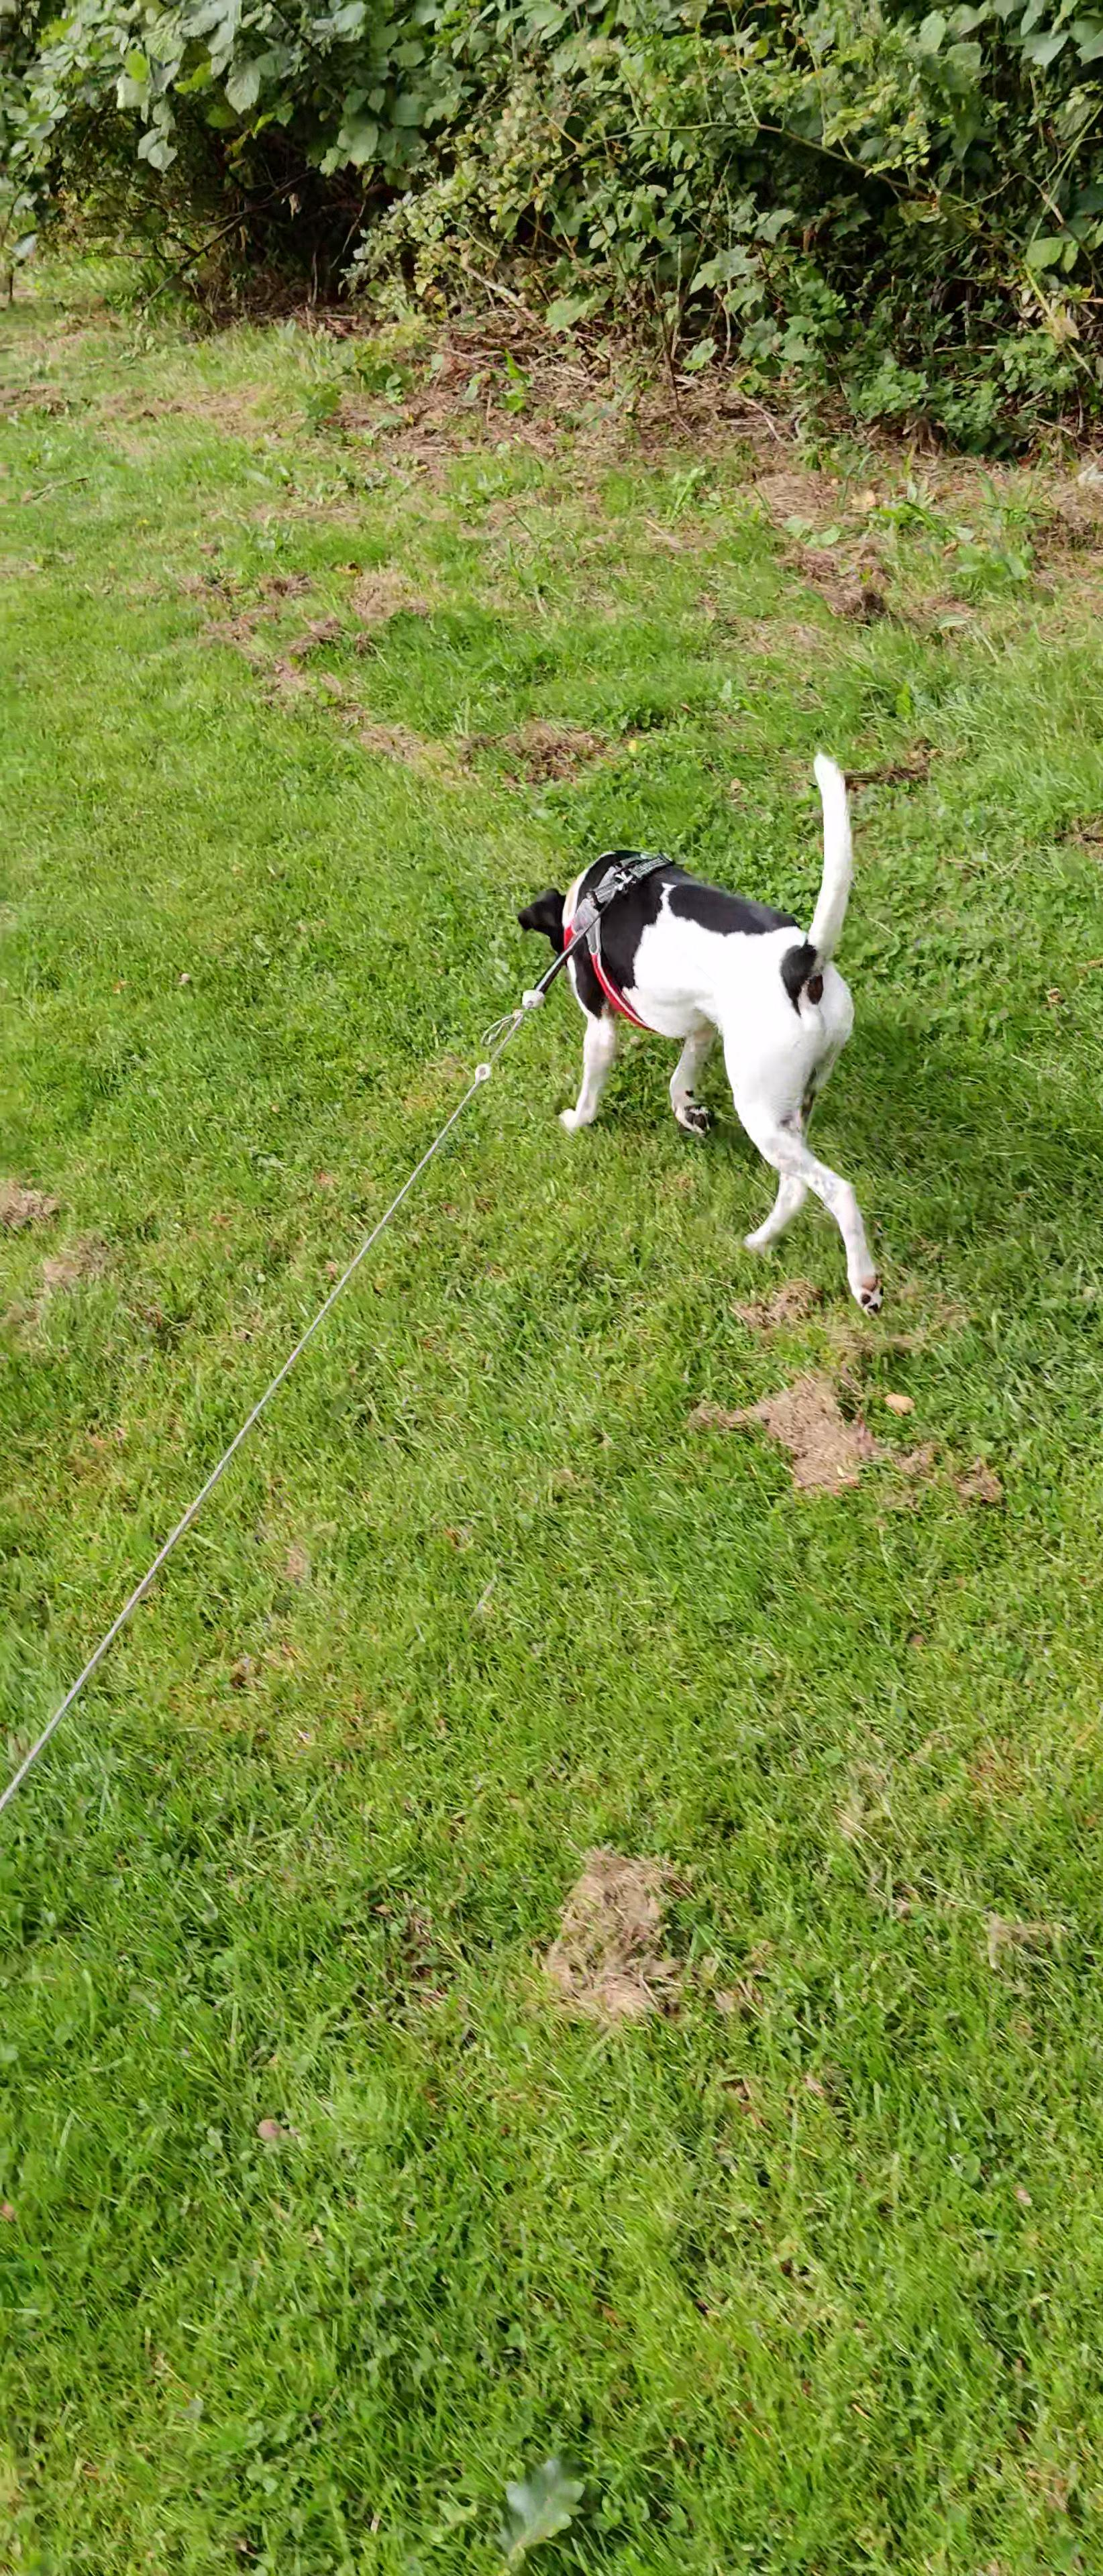Dog: (515, 746, 893, 1309)
